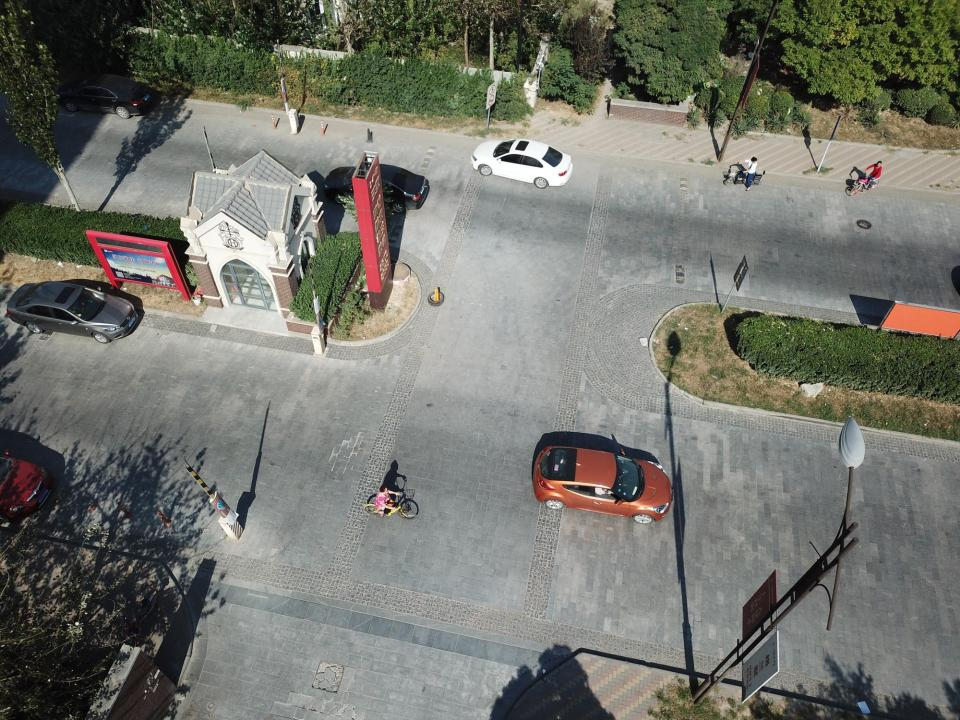car: (531, 446, 672, 525), (8, 282, 140, 344), (469, 138, 574, 188), (330, 166, 430, 213), (0, 450, 54, 523), (56, 78, 154, 117)
